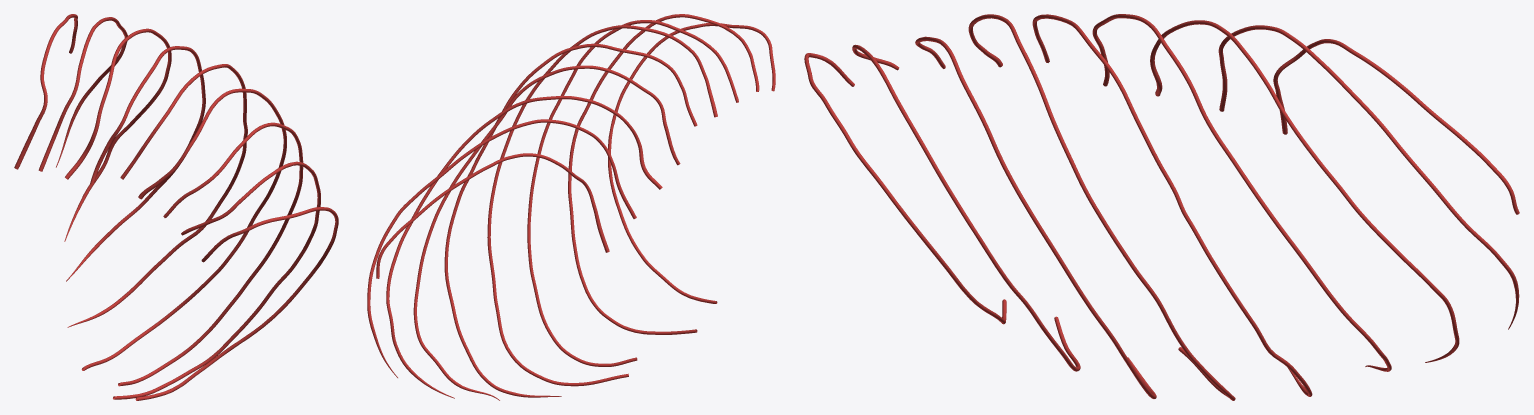
3 renders of one model, left to right at view 1: azimuth 30°, elevation 25°; view 2: azimuth 150°, elevation 25°; view 3: azimuth 270°, elevation 25°, orthographic. The views are drawn at different scales.
Visible parts, largest first — view 1: 左侧肋间后动脉; view 2: 左侧肋间后动脉; view 3: 左侧肋间后动脉.
Boxes of the visible parts, x1,y1,x2,y2 form: 左侧肋间后动脉: (14, 14, 338, 400); 左侧肋间后动脉: (367, 14, 775, 400); 左侧肋间后动脉: (804, 14, 1519, 400).
Bounding box in the file's own units: 0.1892 × 0.2893 × 0.4914.
